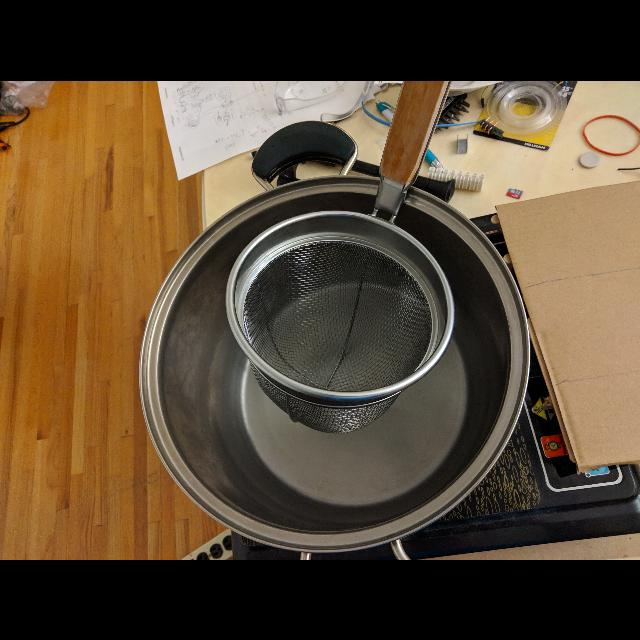Handle: (372, 80, 461, 210)
Strainer: (222, 209, 458, 401)
